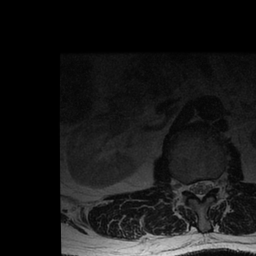CCS_normal: (196, 173, 203, 207)
LFS_normal: (212, 169, 220, 195)
LLS_normal: (203, 173, 212, 199)
RFS_normal: (180, 174, 188, 199)
RLS_normal: (188, 176, 196, 200)
